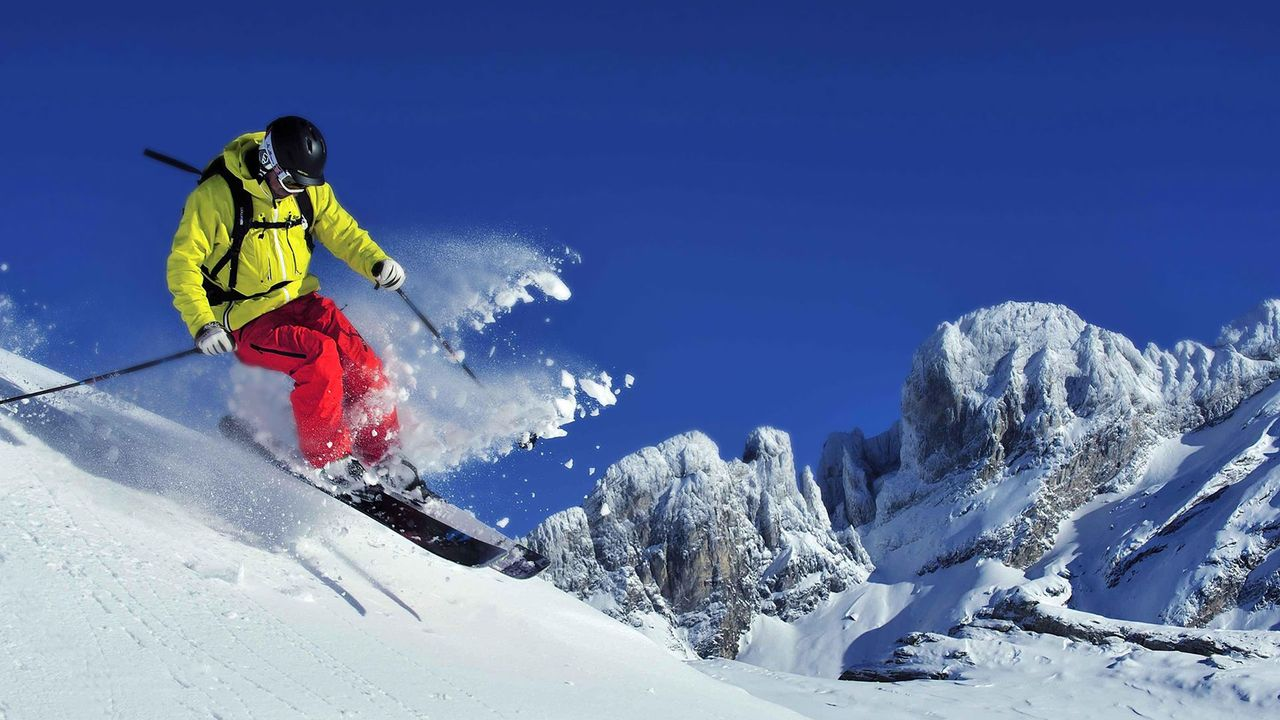skier: (5, 115, 555, 579)
